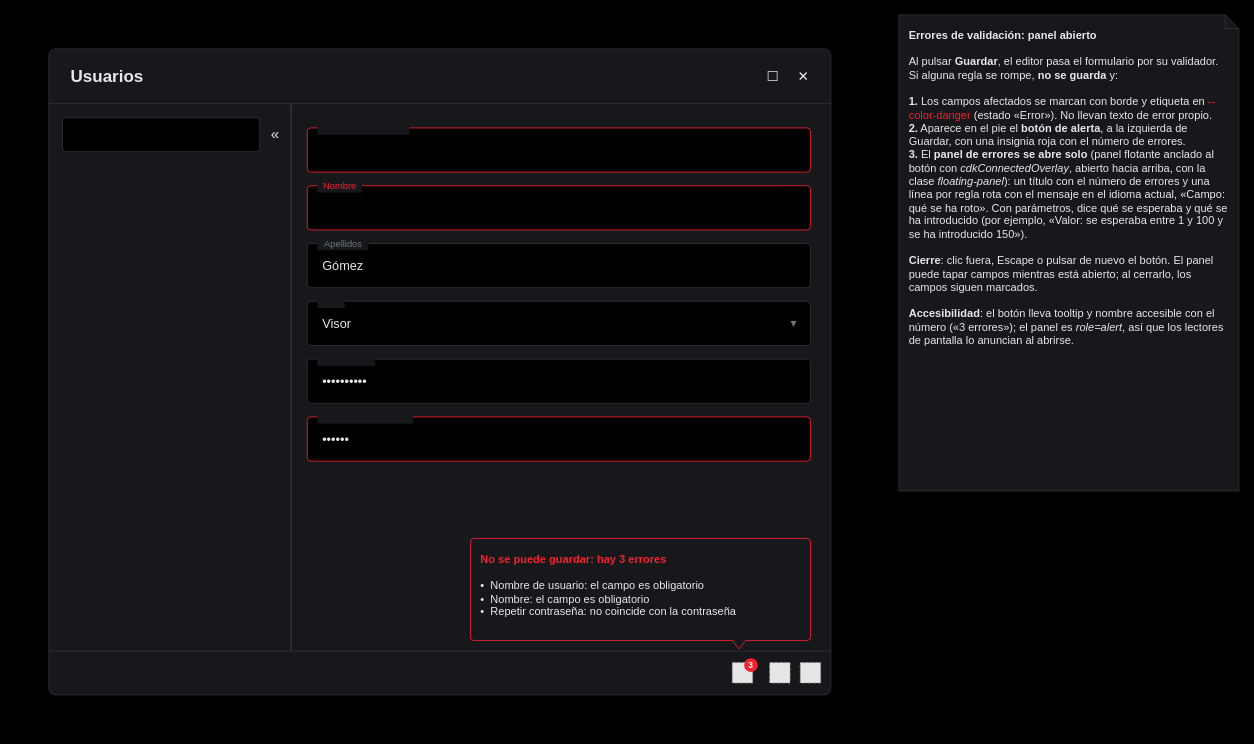
This 1254x744 diagram has some shape labels left out. Grey dashed boxes stand in for pictures. The centre of each missing label's shape, as x and y in pixels:
"Contraseña" goes at (x=346, y=359).
"Nombre de usuario" goes at (x=363, y=127).
"Repetir contraseña" goes at (x=364, y=416).
"Rol" goes at (x=330, y=301).
"⌕ Buscar usuarios" goes at (x=161, y=134).
